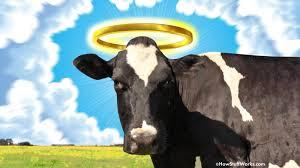cow: (75, 37, 300, 168)
